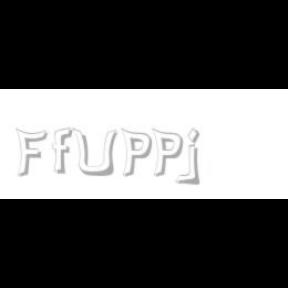F: (15, 128, 47, 178)
P: (120, 128, 152, 178), (151, 128, 183, 178)
U: (72, 128, 116, 178)
f: (52, 128, 76, 174)
j: (184, 128, 214, 186)
